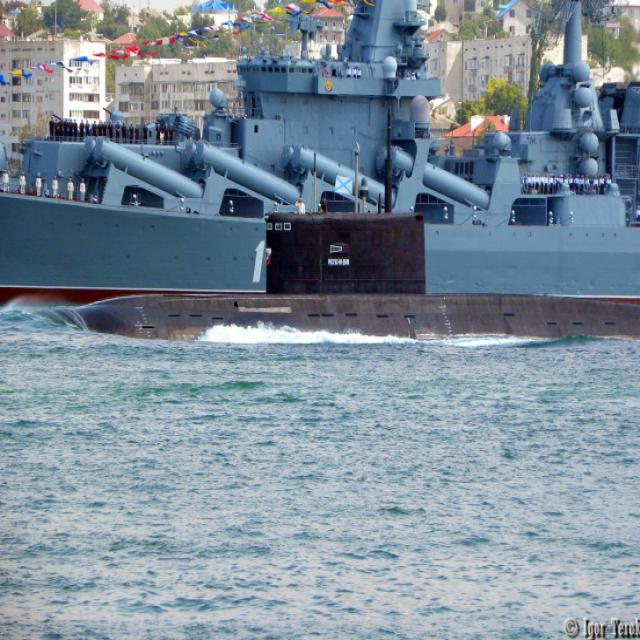submarine: (59, 197, 640, 334)
